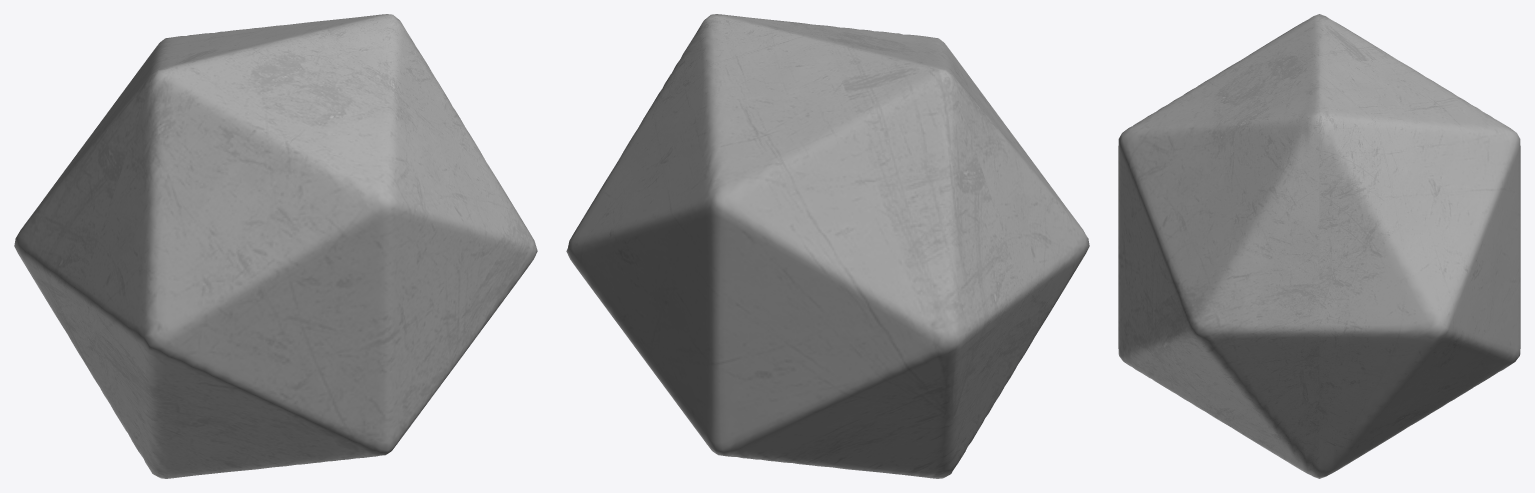
File: TetraTri.glb
The picture shows the model from 3 angles, left to right: view 1: azimuth 30°, elevation 25°; view 2: azimuth 150°, elevation 25°; view 3: azimuth 270°, elevation 25°; orthographic projection. The views are drawn at different scales.
Parts seen in each view (by area): view 1: TetraTri; view 2: TetraTri; view 3: TetraTri.
Part boxes in pixels (x1,y1,x2,y2): TetraTri: (14,14,537,478); TetraTri: (566,14,1089,478); TetraTri: (1118,14,1520,478).
Size of the model in its own units: 1.9 by 1.9 by 1.9.
1 material, 1 textured.
